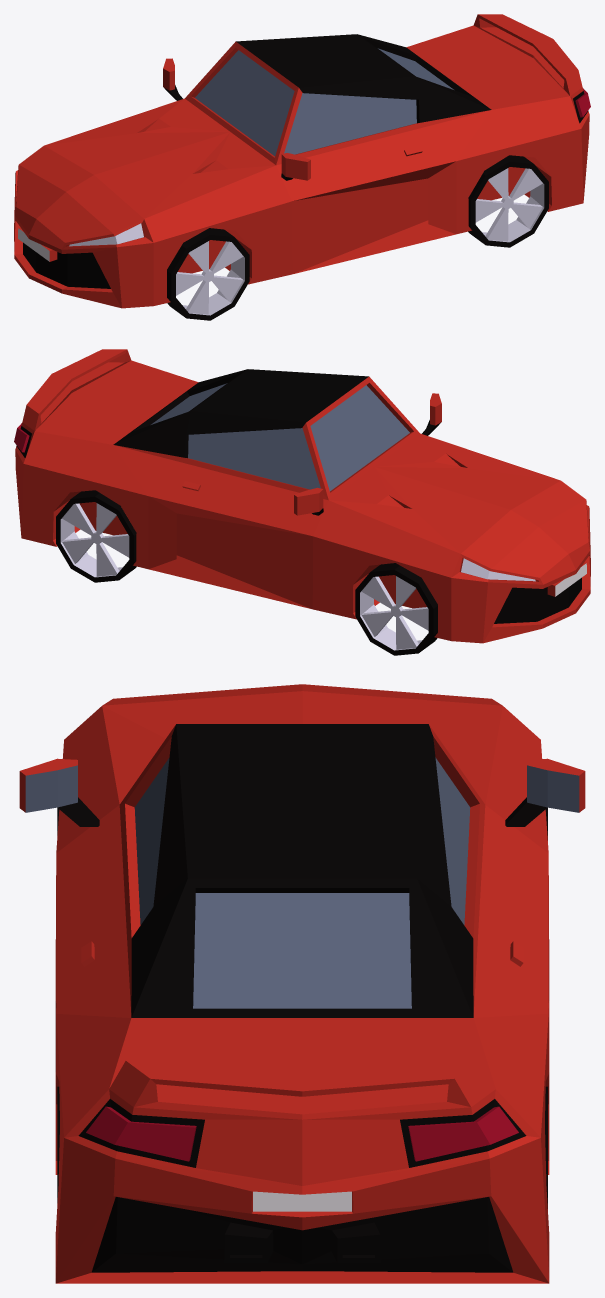
File: sport.glb
3 renders of one model, top to bottom at view 1: azimuth 30°, elevation 25°; view 2: azimuth 150°, elevation 25°; view 3: azimuth 270°, elevation 25°, orthographic. The views are drawn at different scales.
Visible parts, largest first — view 1: chassis, flwheel, blwheel; view 2: chassis, frwheel, brwheel; view 3: chassis.
Part boxes in pixels (x1,y1,x2,y2): chassis: (14, 14, 590, 308); flwheel: (167, 228, 249, 320); blwheel: (468, 155, 548, 247); chassis: (14, 349, 590, 643); frwheel: (355, 563, 437, 655); brwheel: (56, 490, 136, 582); chassis: (19, 684, 585, 1283).
Bounding box in the file's own units: 5.73 × 1.88 × 2.63.
